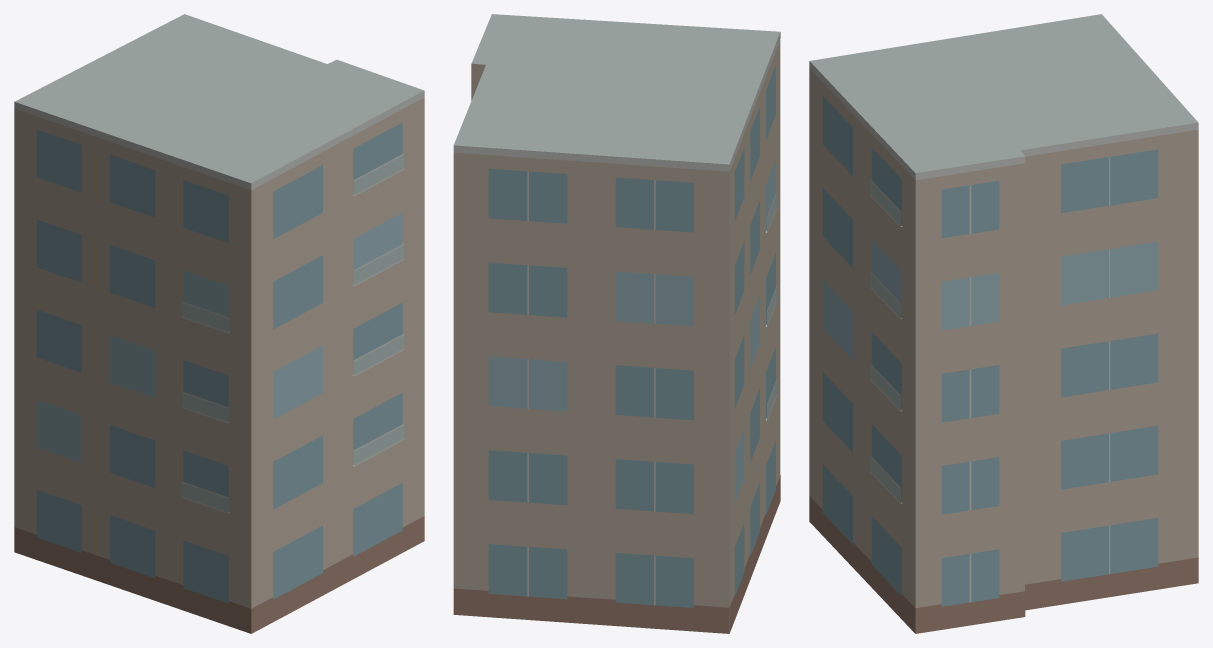
Rendered from survey-upis-32579593.glb.
3 views of the same model, side by side, from view 1: azimuth 30°, elevation 25°; view 2: azimuth 150°, elevation 25°; view 3: azimuth 270°, elevation 25° (orthographic). The views are drawn at different scales.
Parts seen in each view (by area): view 1: survey-upis-32579593.tmp; view 2: survey-upis-32579593.tmp; view 3: survey-upis-32579593.tmp.
Boxes of the visible parts, x1,y1,x2,y2 form: survey-upis-32579593.tmp: (14,14,424,633); survey-upis-32579593.tmp: (453,14,780,633); survey-upis-32579593.tmp: (809,14,1198,633).
Size of the model in its own units: 11.87 by 16 by 12.26.
